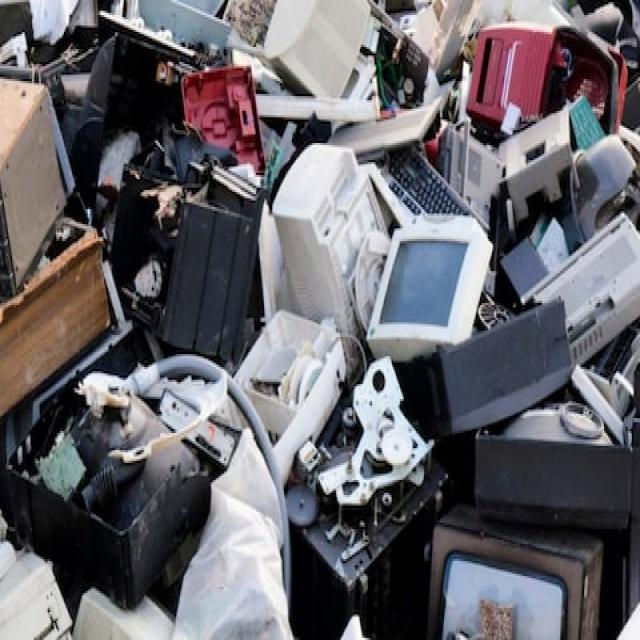heap: (5, 8, 628, 640)
